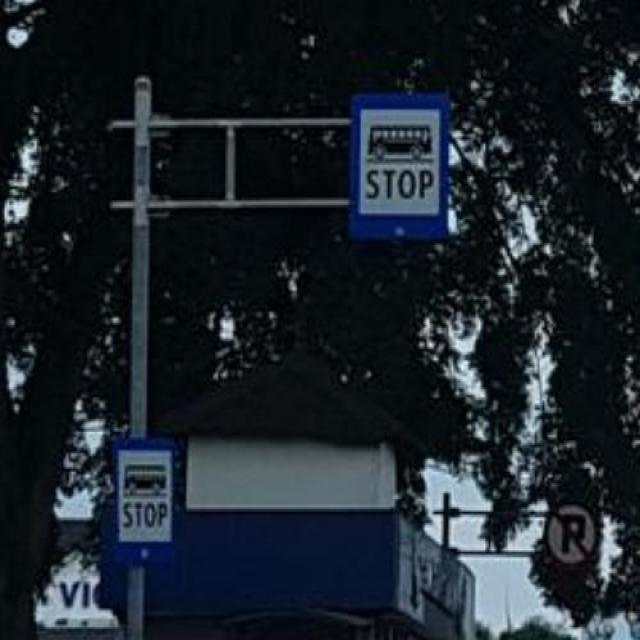traffic sign: (351, 93, 447, 242), (105, 437, 180, 566)
